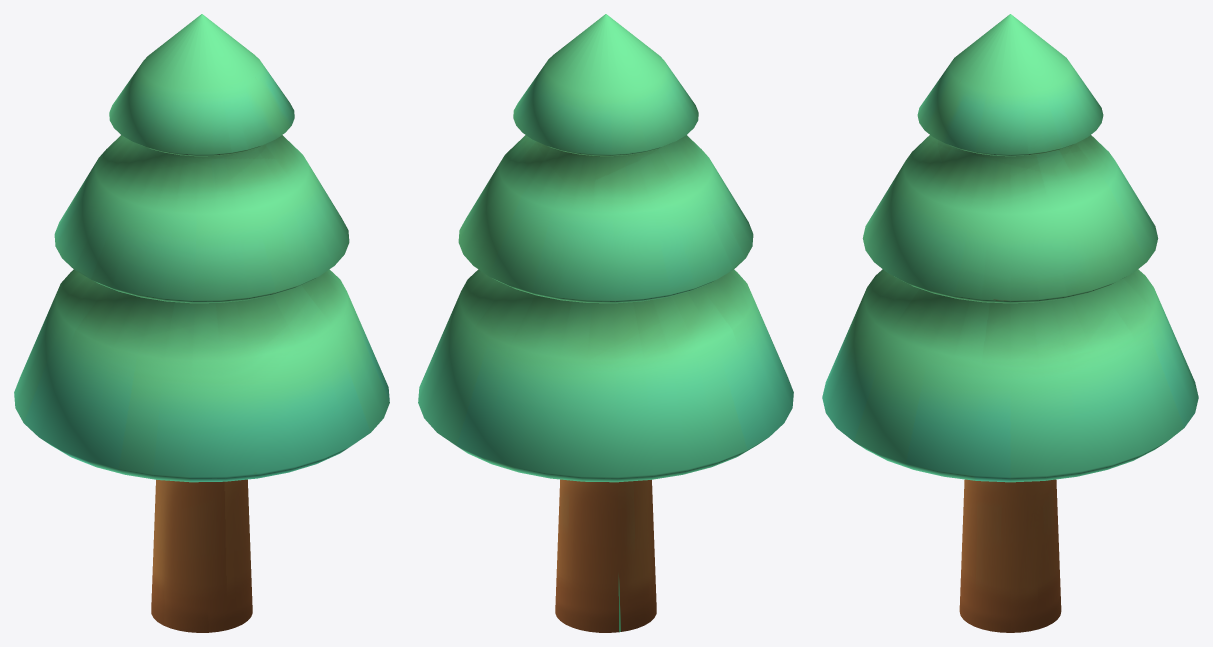
Rendered from tree.fbx.
3 renders of one model, left to right at view 1: azimuth 30°, elevation 25°; view 2: azimuth 150°, elevation 25°; view 3: azimuth 270°, elevation 25°, orthographic.
Visible parts, largest first — view 1: Cylinder; view 2: Cylinder; view 3: Cylinder.
Boxes of the visible parts, x1=… form: Cylinder: x1=14, y1=14, x2=389, y2=632; Cylinder: x1=418, y1=14, x2=793, y2=632; Cylinder: x1=822, y1=14, x2=1198, y2=632.
Size of the model in its own units: 865 by 1514 by 865.
Materials: 2 (2 with a texture image).
